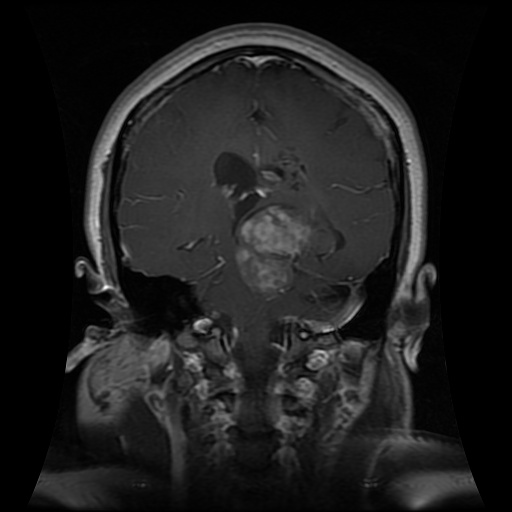glioma: (234, 202, 344, 301)
